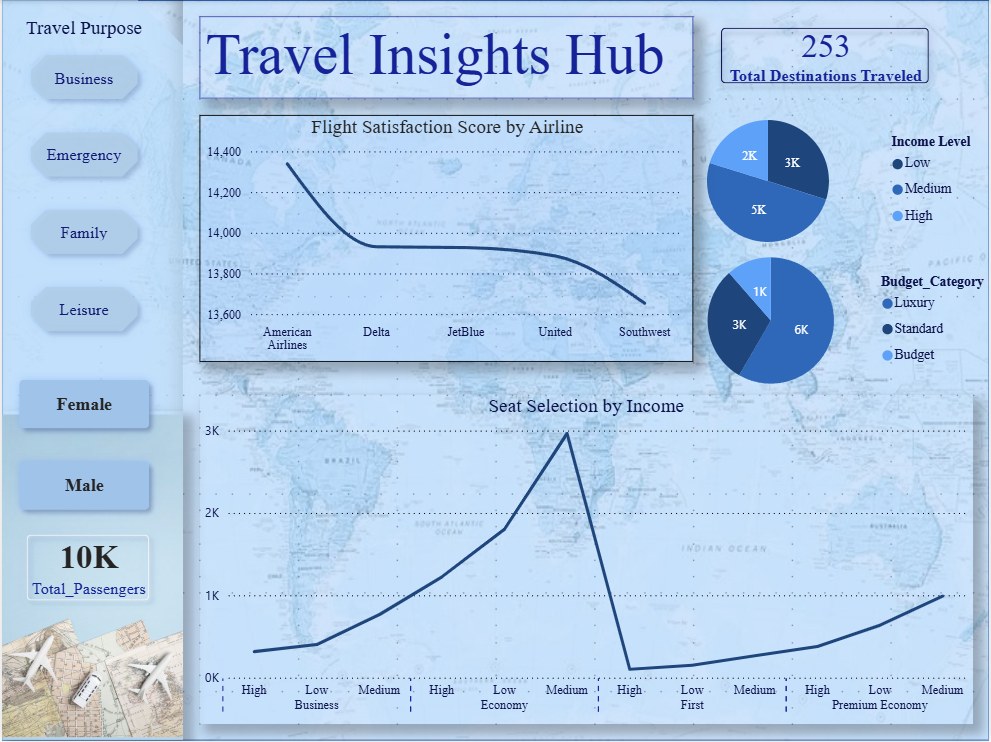

This screenshot's page, from the dashboard's own definition file:
{"tool":"powerbi","page":{"name":"Page 1","canvas":[960,720],"ordinal":0},"visuals":[{"type":"shape","box":[0,0,960,720],"z":0},{"type":"shape","box":[0,0,176,720],"z":750},{"type":"image","box":[0,400,176,320],"z":1500},{"type":"textbox","box":[192,16,480,80],"z":1501},{"type":"advancedSlicerVisual","title":"Travel Purpose","fields":{"Values":["public fact_flights.Travel_Purpose"]},"box":[16,16,128,320],"z":1503},{"type":"cardVisual","fields":{"Data":["KPI_measures.Total Countries Traveled"]},"box":[672,0,256,112],"z":1504},{"type":"cardVisual","fields":{"Data":["KPI_measures.Total_Passengers"]},"box":[0,496,176,128],"z":1505},{"type":"advancedSlicerVisual","fields":{"Values":["public fact_flights.Gender"]},"box":[0,352,160,160],"z":1506},{"type":"pieChart","fields":{"Category":["public dim_passenger_budget.Budget_Category"],"Y":["KPI_measures.Budget Categories"]},"box":[640,224,320,176],"z":1507},{"type":"pieChart","fields":{"Y":["KPI_measures.Low Count","KPI_measures.Medium Income Count","KPI_measures.High Count"]},"box":[624,96,336,160],"z":1508},{"type":"lineStackedColumnComboChart","title":"Seat Selection by Income","fields":{"Category":["public fact_flights.Seat_Class","public fact_flights.Income_Level"],"Y2":["CountNonNull(public fact_flights.Passenger_ID)"]},"box":[192,384,752,320],"z":1509},{"type":"lineChart","title":"Flight Satisfaction Score by Airline","fields":{"Y":["Sum(public fact_flights.Flight_Satisfaction_Score)"],"Category":["public fact_flights.Airline"]},"box":[192,112,480,240],"z":1510}]}

Visuals, with their boxes in screenshot pixels (x1, y1, x2, y2), scaled from the page's 960x720 canvas onto the 991x742 screenshot:
shape: (0,0,990,741)
shape: (0,0,182,741)
image: (0,412,182,741)
textbox: (198,16,694,99)
"Travel Purpose" advancedSlicerVisual: (17,16,149,346)
cardVisual - KPI_measures.Total Countries Traveled: (694,0,958,115)
cardVisual - KPI_measures.Total_Passengers: (0,511,182,643)
advancedSlicerVisual - public fact_flights.Gender: (0,363,165,528)
pieChart - public dim_passenger_budget.Budget_Category x KPI_measures.Budget Categories: (661,231,990,412)
pieChart - KPI_measures.Low Count x KPI_measures.Medium Income Count: (644,99,990,264)
"Seat Selection by Income" lineStackedColumnComboChart: (198,396,974,726)
"Flight Satisfaction Score by Airline" lineChart: (198,115,694,363)
